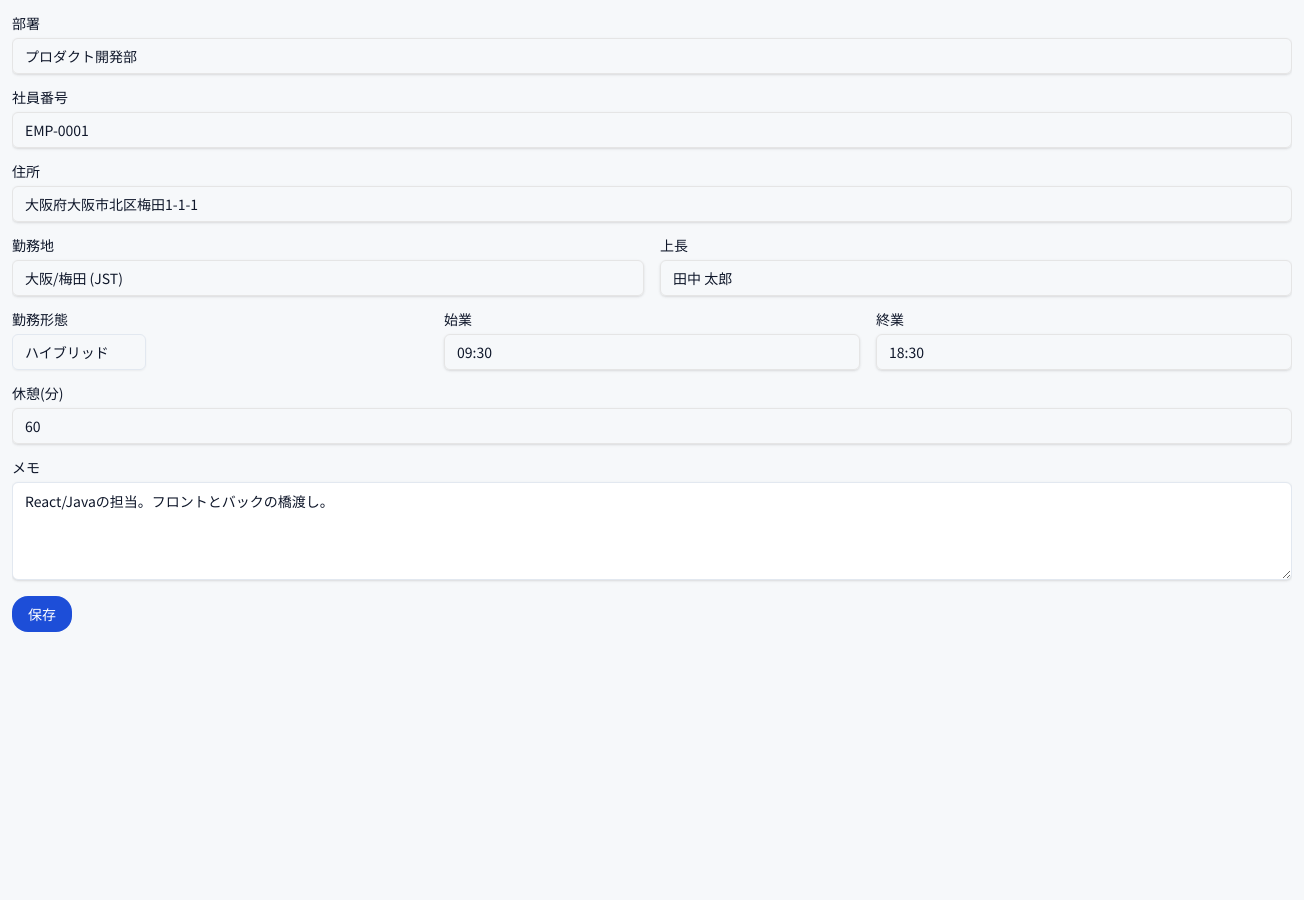
Scenario: ProfileEditForm › 禁止文字を含む場合は送信をブロックする
Replace the text in the field labelled "住所" with "東京都<script>alert(1)</script>" at (652, 204), box [12,186,1292,222]
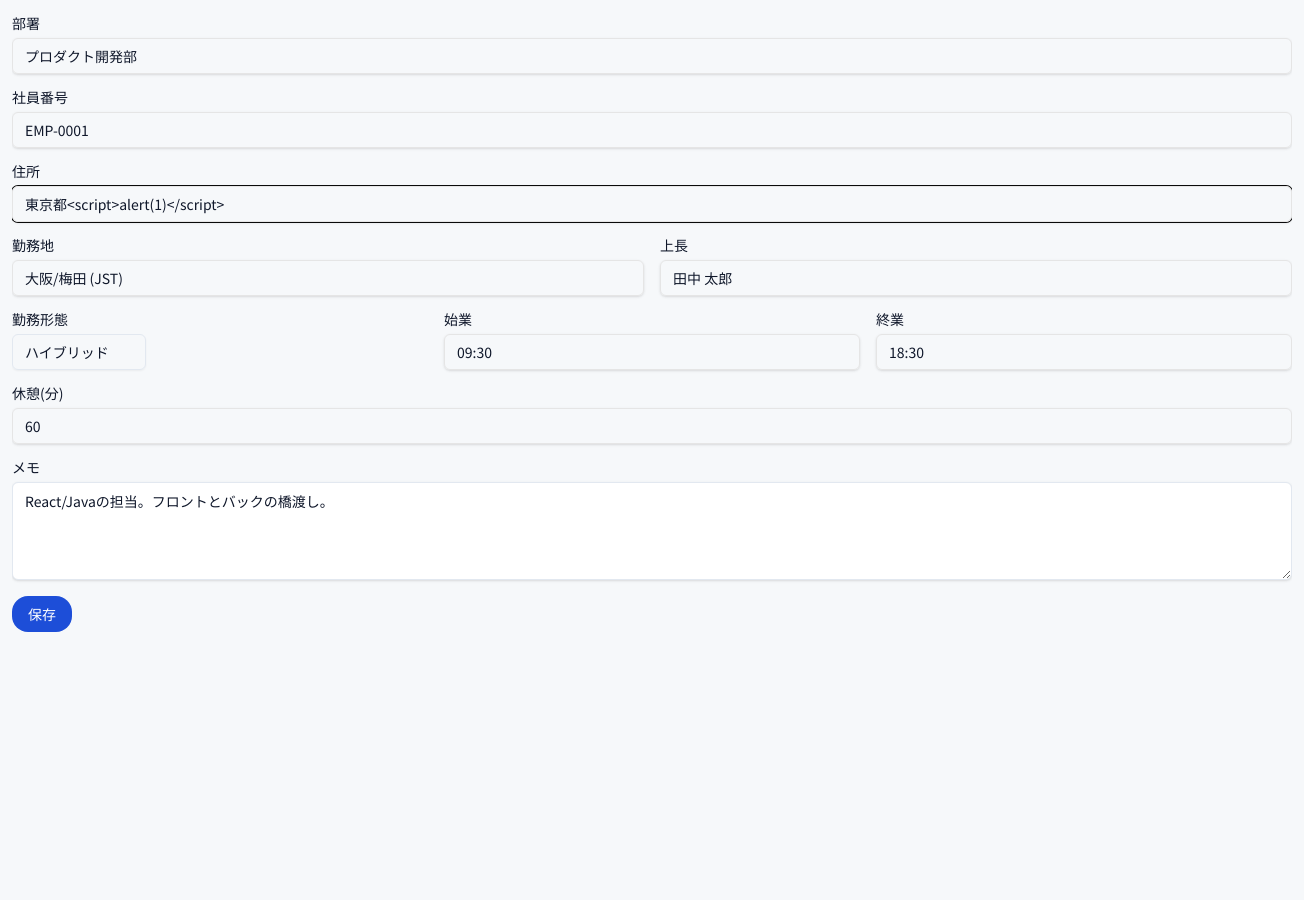
Click the button "保存" at (42, 614), box [12,596,72,632]
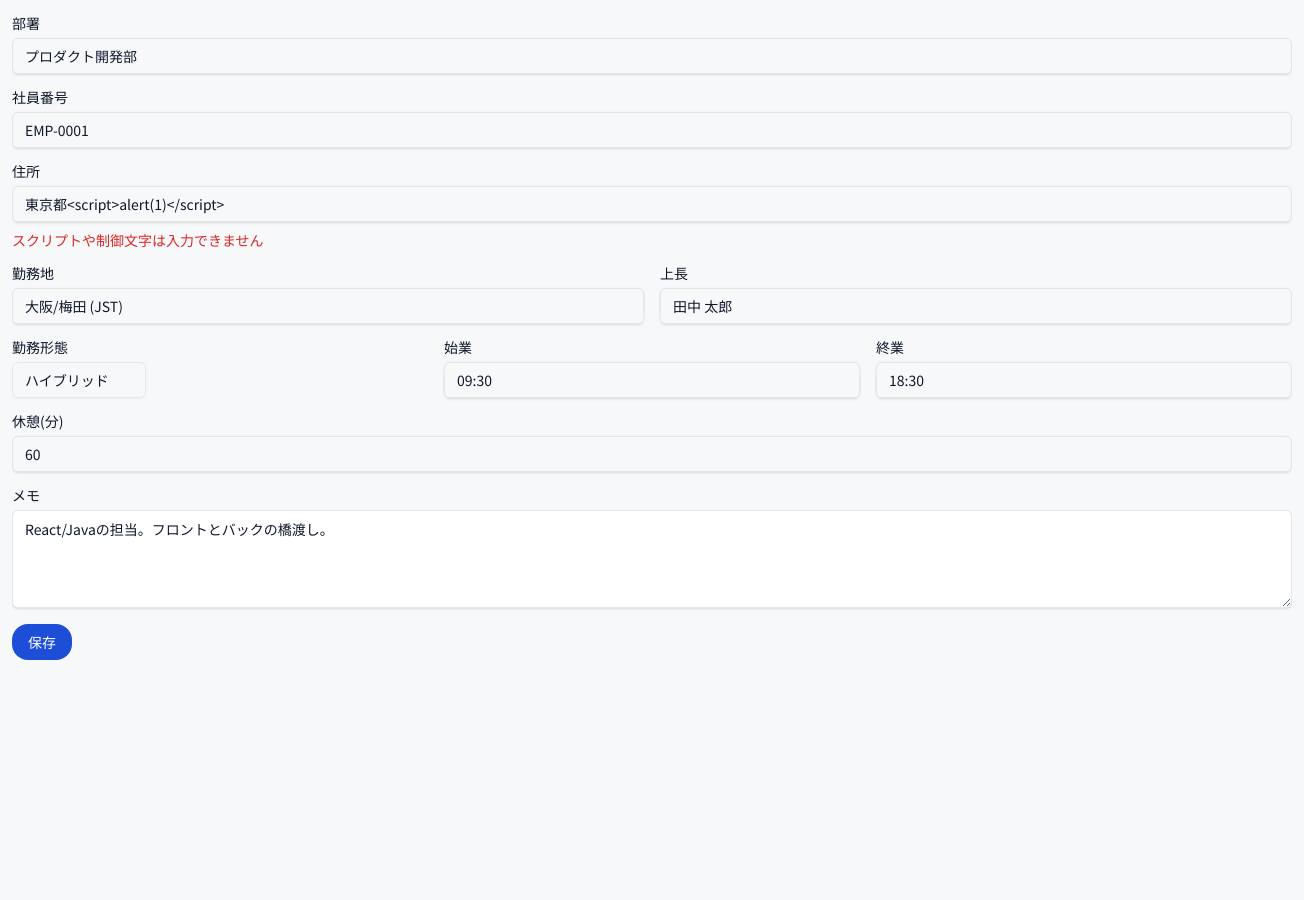
Check: the text "スクリプトや制御文字は入力できません" is shown, box [12,230,264,250]
